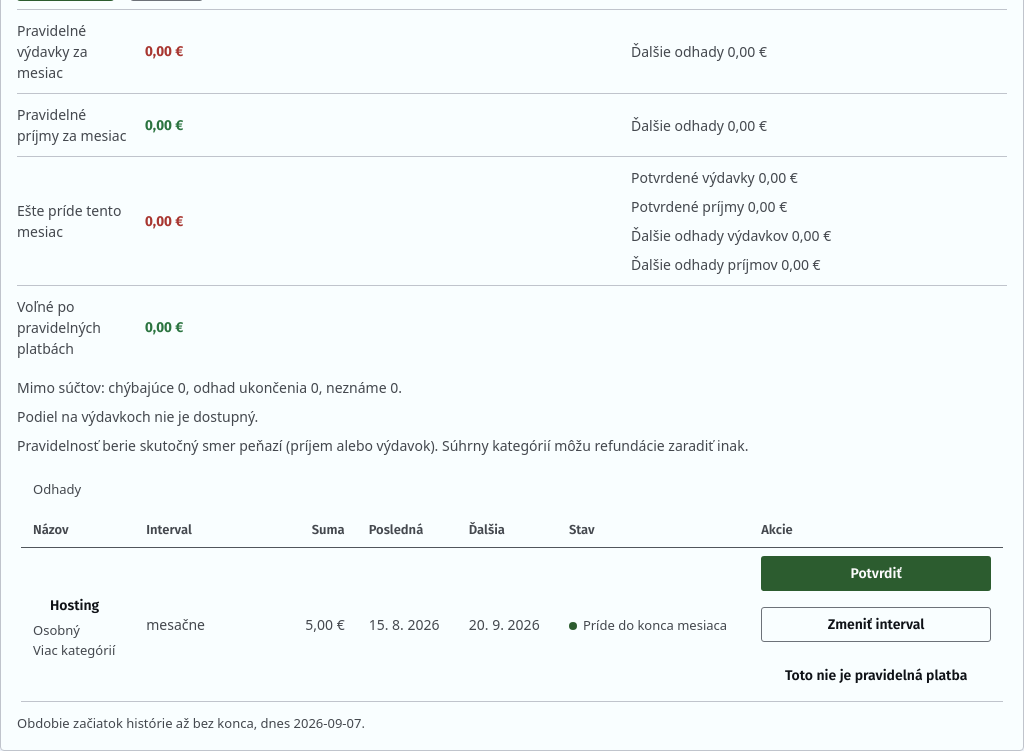
Test: RecurringPanel confirm, ignore, reset and saved-refresh failure › opens the real category creation dialog from the recurring editor
This screenshot has width=1024, height=751.
(page scrolled)
What coordinates should you click on to do the following:
click the button with aria-label "Zmeniť interval Hosting"
I would click on:
 (876, 624)
Its box is [761,607,991,642].
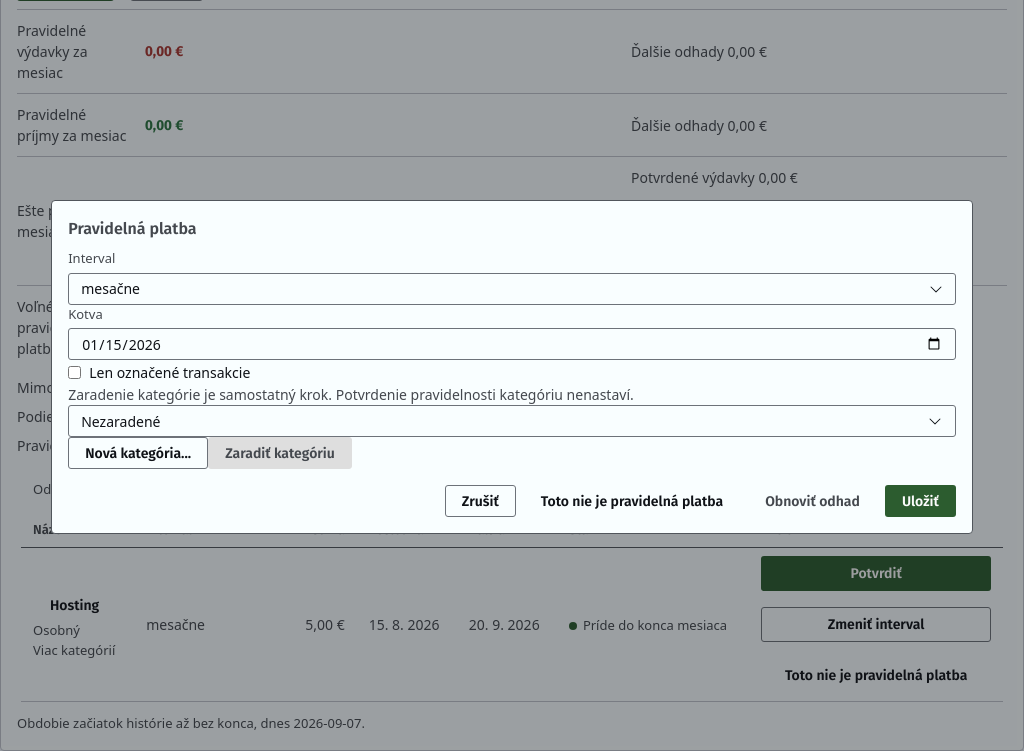
Check: the dialog "Pravidelná platba" is shown, box [51,200,973,534]
What coordinates should you click on to do the following:
click the button "Nová kategória..."
I would click on:
 (138, 453)
Its box is [68,437,208,469].
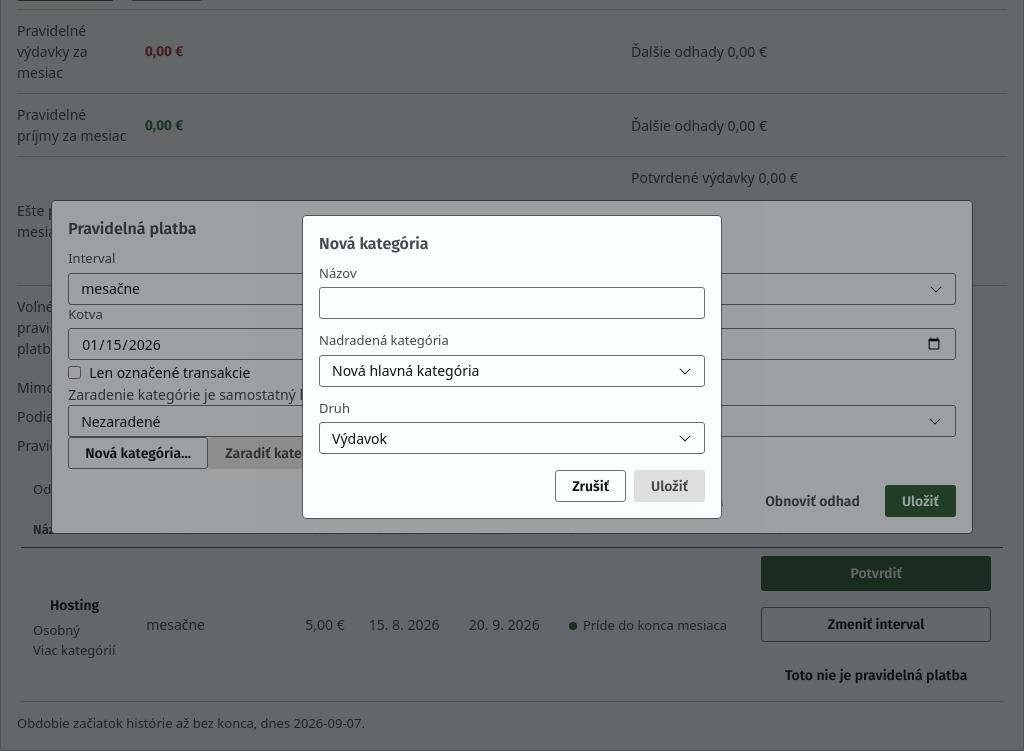
Check: the dialog "Nová kategória" is shown, box [302,215,722,519]
